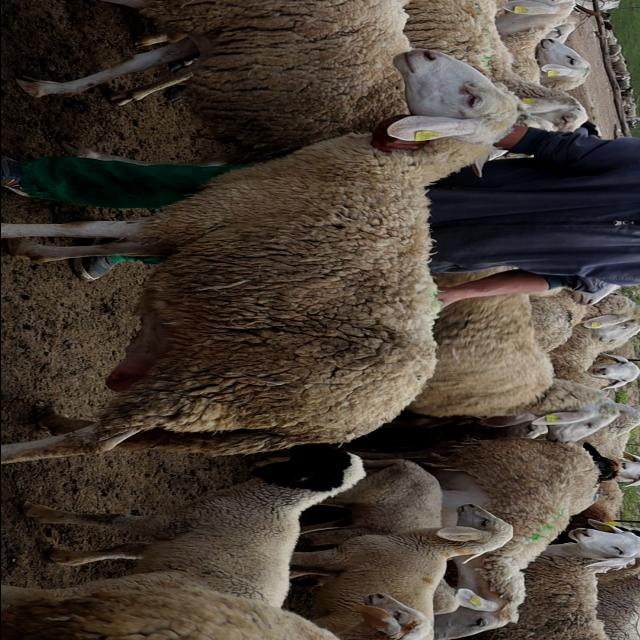Score_2: (1, 49, 518, 464)
